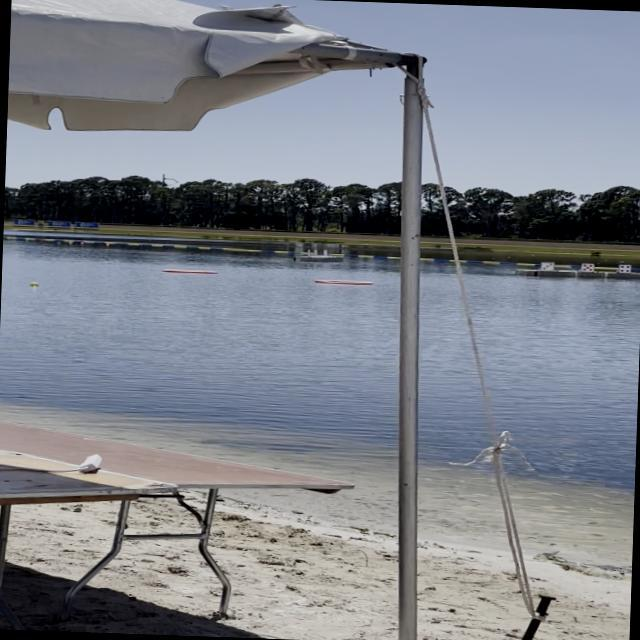buoy: (28, 280, 38, 287)
